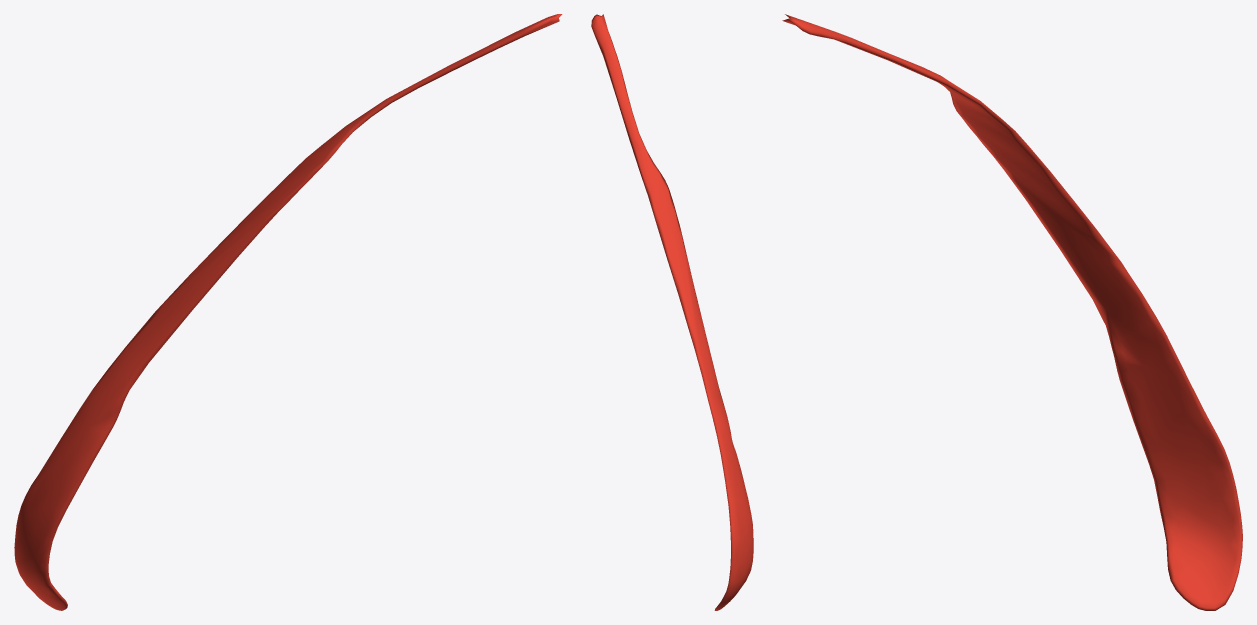
The model's file is Erector_spinae_iliac_insertions_left.glb.
3 views of the same model, side by side, from view 1: azimuth 30°, elevation 25°; view 2: azimuth 150°, elevation 25°; view 3: azimuth 270°, elevation 25° (orthographic). The views are drawn at different scales.
Visible parts, largest first — view 1: Erector_spinae_muscles-Iliac_insertions.l_Generated_Mesh_Fro; view 2: Erector_spinae_muscles-Iliac_insertions.l_Generated_Mesh_Fro; view 3: Erector_spinae_muscles-Iliac_insertions.l_Generated_Mesh_Fro.
Boxes of the visible parts, bbox=[...] form: Erector_spinae_muscles-Iliac_insertions.l_Generated_Mesh_Fro: bbox=[14, 14, 562, 610]; Erector_spinae_muscles-Iliac_insertions.l_Generated_Mesh_Fro: bbox=[591, 14, 753, 610]; Erector_spinae_muscles-Iliac_insertions.l_Generated_Mesh_Fro: bbox=[782, 14, 1242, 610].
Size of the model in its own units: 0.0375 by 0.0605 by 0.0316.
